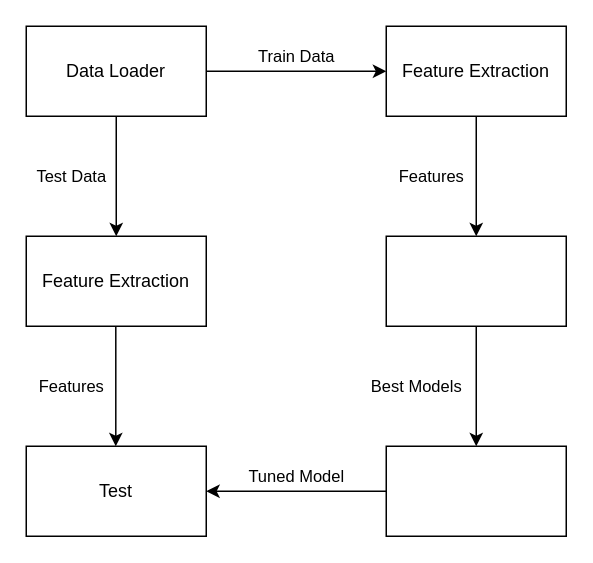
Image size: 593x563. Some labels were removed from this diagram. Here are the shapes that lost their labels. From the top down, the centre of each, then its label:
the point at 475,280: Model Selection (Nested CV)
the point at 475,490: GridSearchCV
